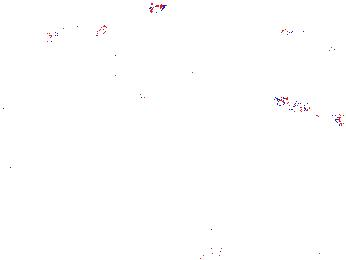red belly glassfish: (130, 2, 168, 19), (274, 24, 309, 38)
redtail glassfish: (105, 48, 149, 105), (270, 94, 345, 125), (44, 23, 112, 46)
siberian prawn: (195, 198, 236, 260)
